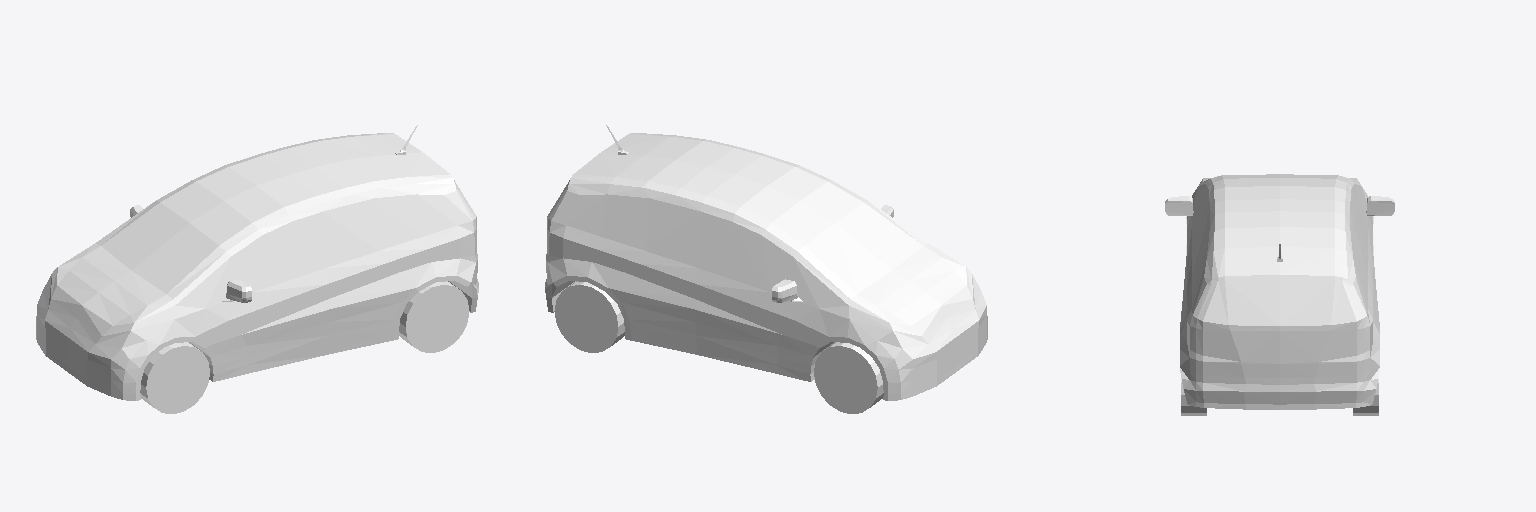
The model's file is honda_jazz.obj.
The picture shows the model from 3 angles: view 1: azimuth 30°, elevation 25°; view 2: azimuth 150°, elevation 25°; view 3: azimuth 270°, elevation 25°; orthographic projection.
Visible parts, largest first — view 1: jazz; view 2: jazz; view 3: jazz.
Boxes of the visible parts, box(x1,y1,x2,y2) form: jazz: box(36, 125, 478, 413); jazz: box(545, 125, 987, 413); jazz: box(1165, 174, 1394, 415).
Bounding box in the file's own units: 175 × 81.18 × 91.69.